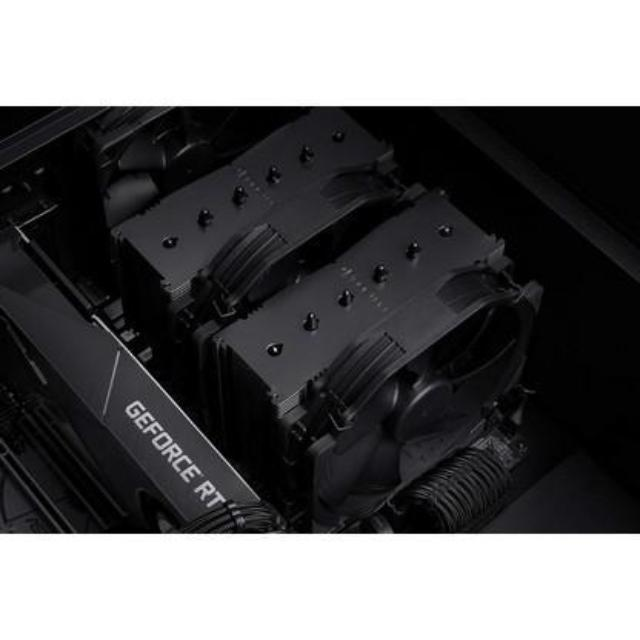CPU_Fan: (76, 107, 590, 485)
